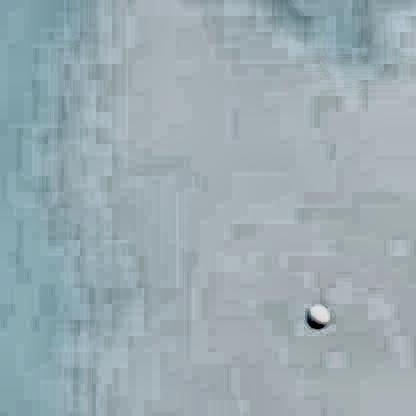golfball: (302, 299, 326, 327)
